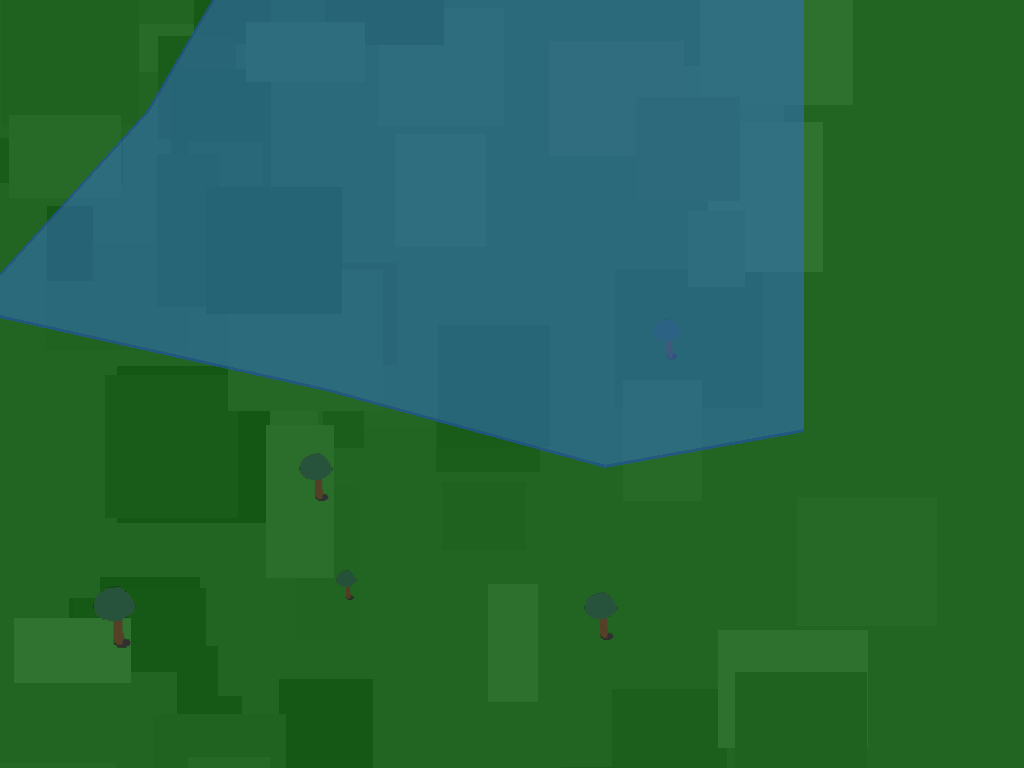Lake: (0, 0, 804, 466)
